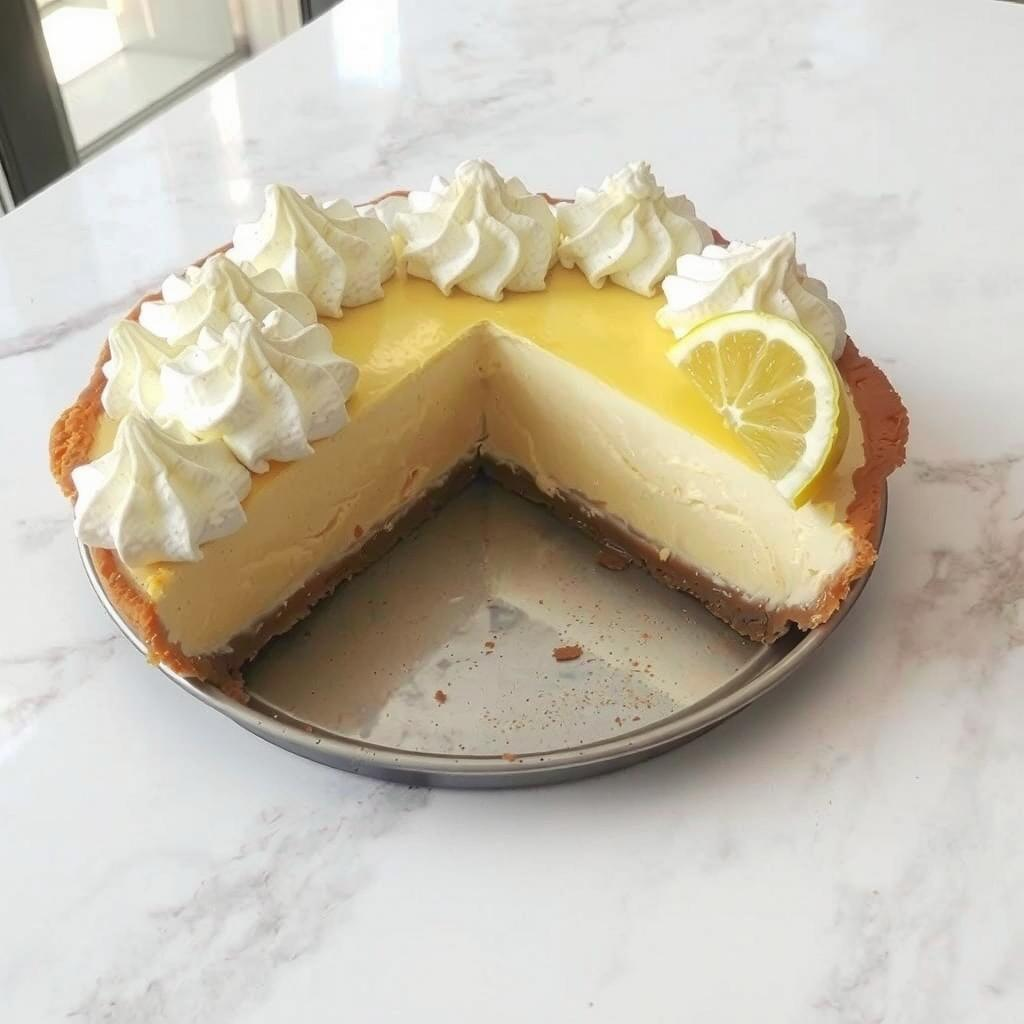pie: (39, 153, 917, 709)
